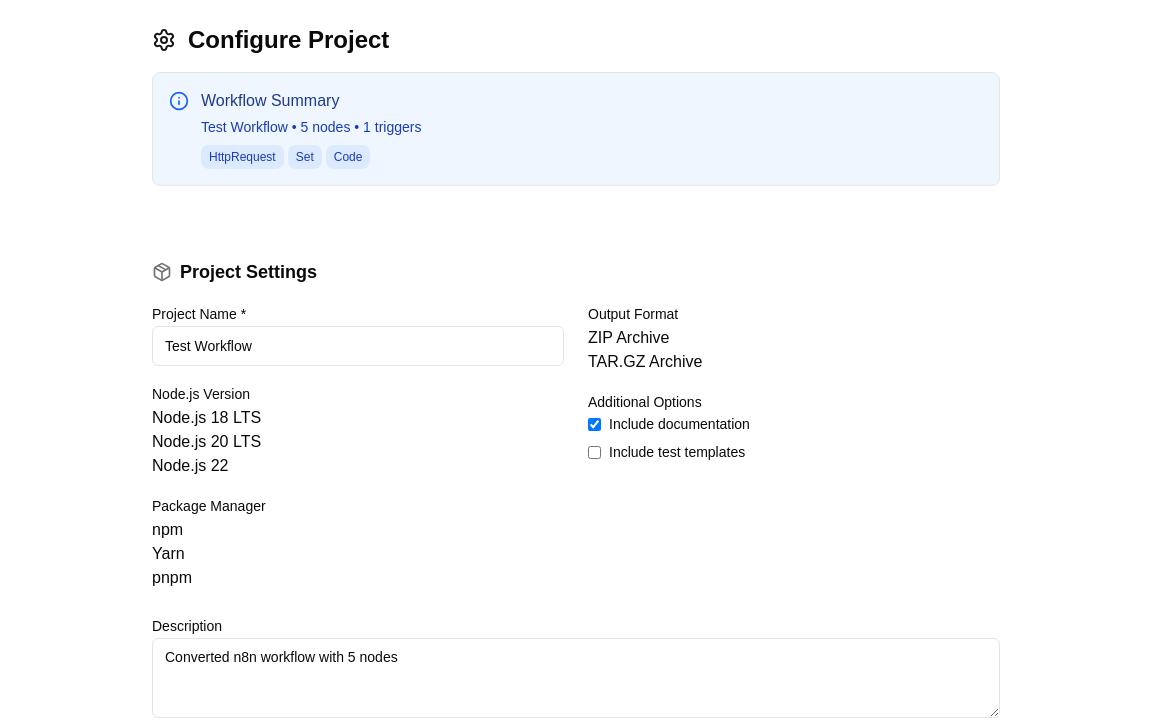
Scenario: WorkflowConfiguration › should sanitize project name input
The width and height of the screenshot is (1152, 720).
# Input invalid characters
Replace the text in the field showing "Test Workflow" with "test@project!" at (358, 346), box top-left (152, 326), bottom-right (564, 366)
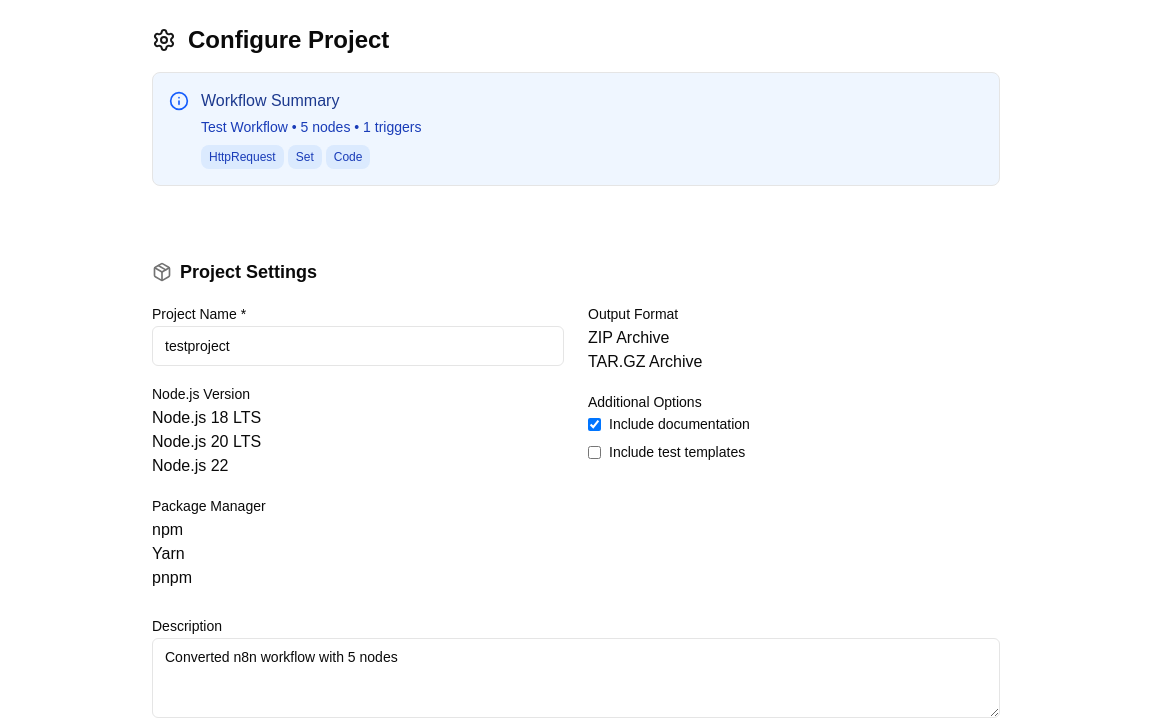
Expected: the field showing "Test Workflow" holds "testproject", top-left (152, 326), bottom-right (564, 366)
